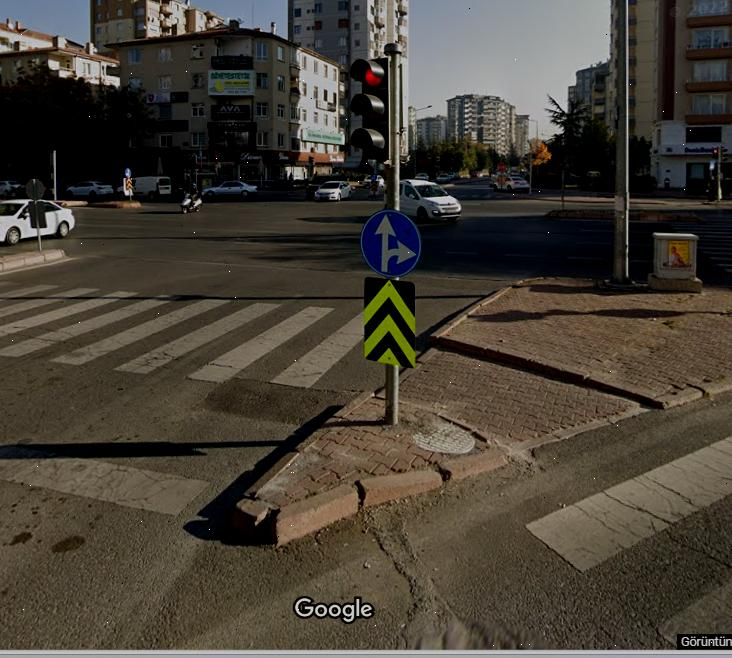redlight: (353, 55, 397, 161)
